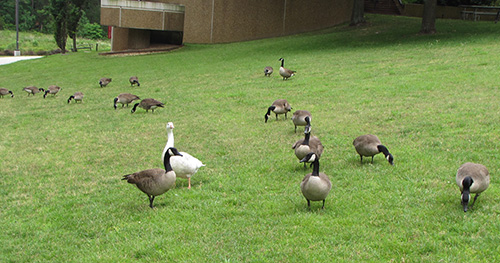goose: (127, 147, 180, 210), (160, 120, 206, 192), (298, 151, 333, 210), (454, 161, 493, 212), (292, 114, 324, 164), (351, 133, 396, 165), (263, 97, 292, 122), (130, 97, 165, 115), (290, 107, 313, 131), (277, 56, 297, 81), (112, 92, 138, 111), (42, 84, 64, 99), (22, 85, 45, 96), (67, 91, 87, 103), (97, 76, 114, 88), (128, 75, 140, 89), (1, 87, 16, 98), (262, 64, 274, 77)
